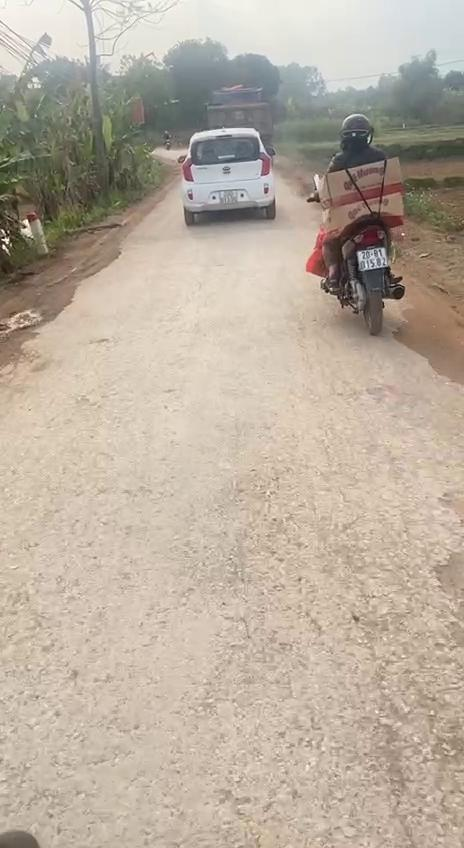pothole: (384, 302, 464, 394), (423, 485, 464, 612)
